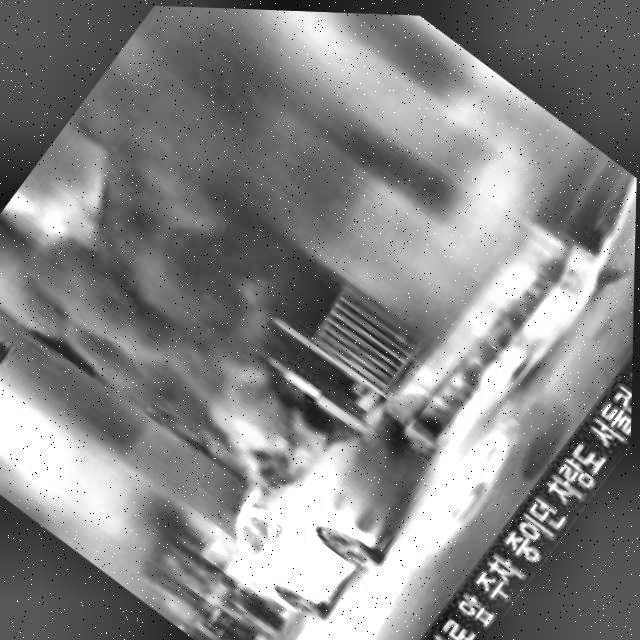Fire: (206, 368, 331, 489)
